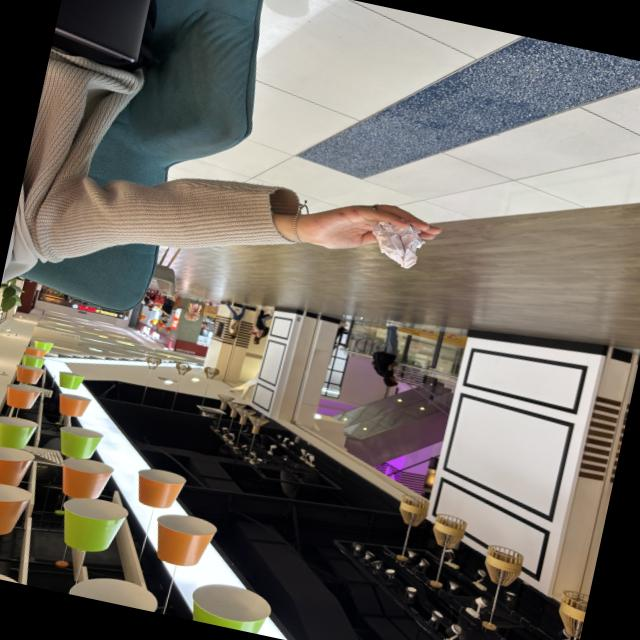crumpled_paper: (362, 214, 431, 274)
